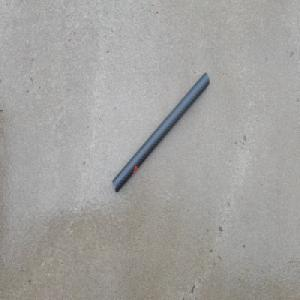LuggagePart: (111, 71, 210, 193)
